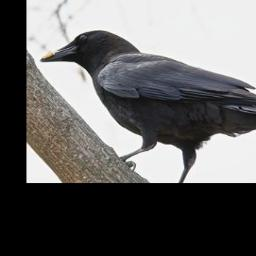Crow: (39, 29, 256, 182)
